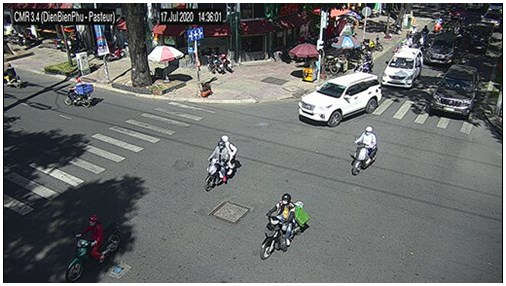xe_hoi: (298, 72, 381, 127), (430, 65, 479, 117), (425, 33, 457, 66), (466, 23, 489, 53)
xe_may: (64, 215, 122, 283), (260, 194, 308, 260), (204, 135, 237, 190), (352, 126, 378, 175), (64, 76, 93, 108), (4, 62, 22, 88), (361, 51, 375, 71), (406, 25, 419, 42), (433, 16, 442, 34), (460, 50, 469, 65), (422, 25, 429, 41)
xe_taxi: (382, 48, 423, 89)
